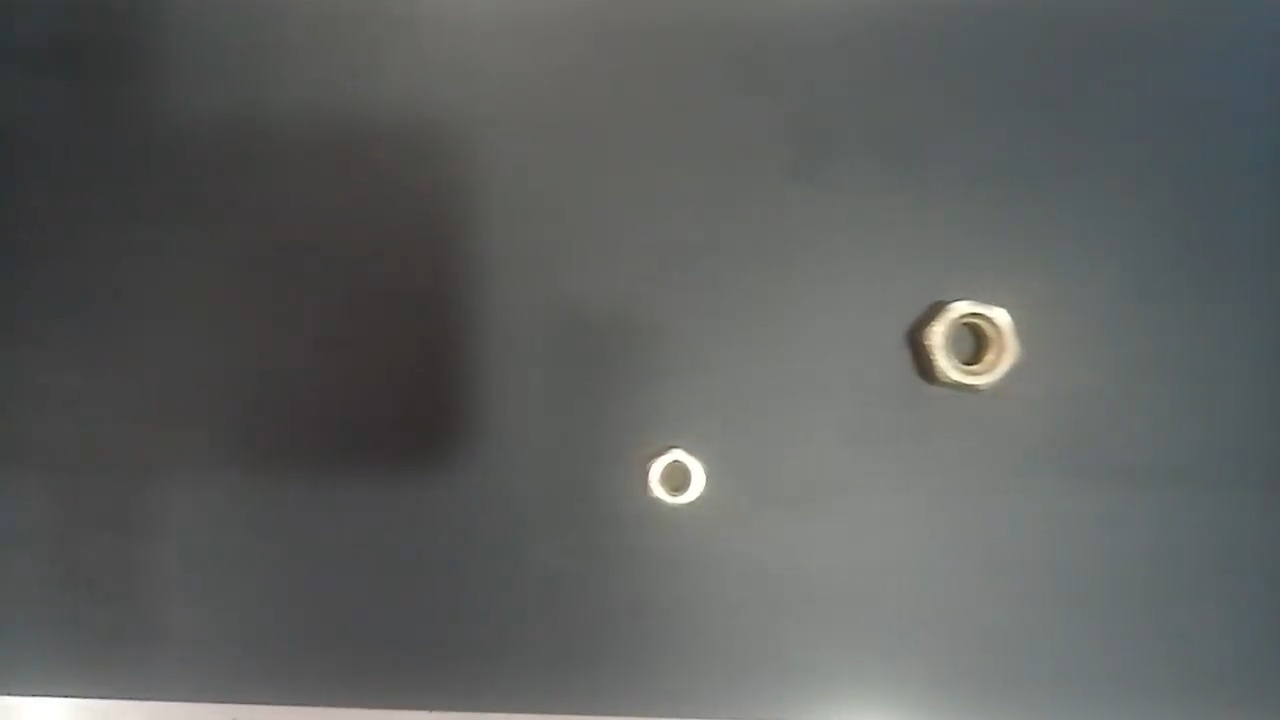Bolt: (914, 294, 1024, 394), (641, 443, 709, 506)
